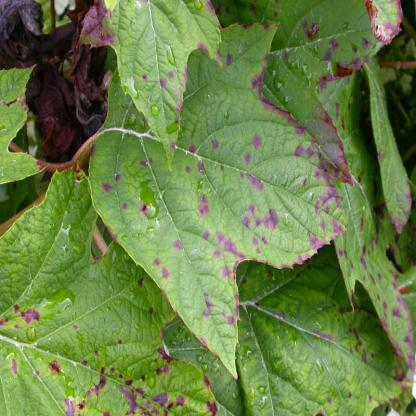Tomato leaf bacterial spot: (95, 91, 350, 381)
